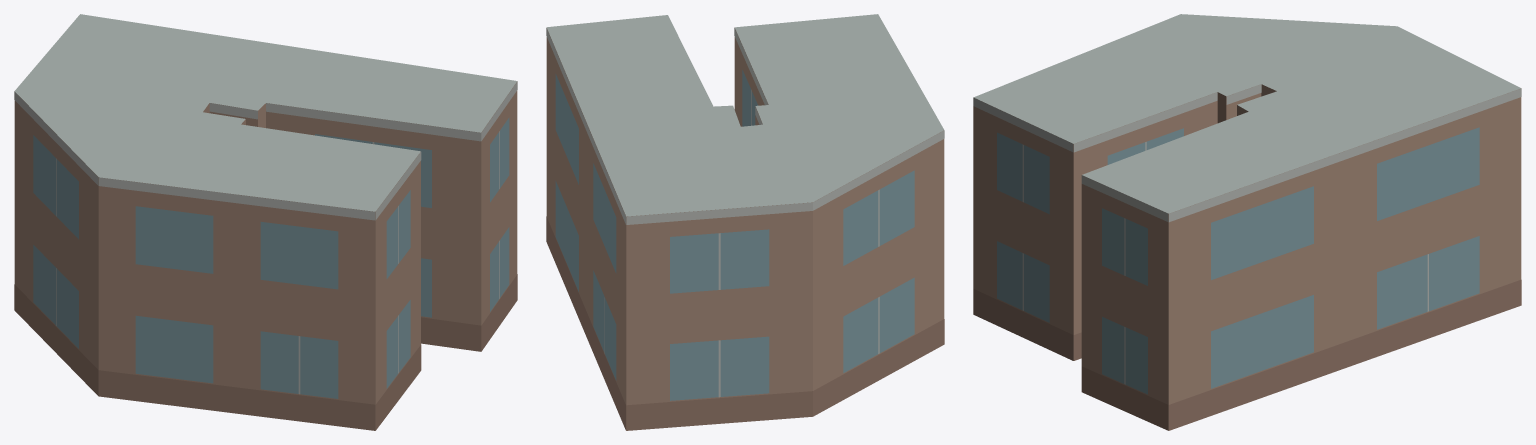
File: survey-upis-32915164.glb
The picture shows the model from 3 angles, left to right: view 1: azimuth 30°, elevation 25°; view 2: azimuth 150°, elevation 25°; view 3: azimuth 270°, elevation 25°; orthographic projection. The views are drawn at different scales.
Visible parts, largest first — view 1: survey-upis-32915164.tmp; view 2: survey-upis-32915164.tmp; view 3: survey-upis-32915164.tmp.
Boxes of the visible parts, left/top/right/bottom form: survey-upis-32915164.tmp: left=14, top=14, right=517, bottom=430; survey-upis-32915164.tmp: left=546, top=14, right=944, bottom=430; survey-upis-32915164.tmp: left=973, top=14, right=1521, bottom=430.
Bounding box in the file's own units: 12.04 × 6.1 × 13.96.
